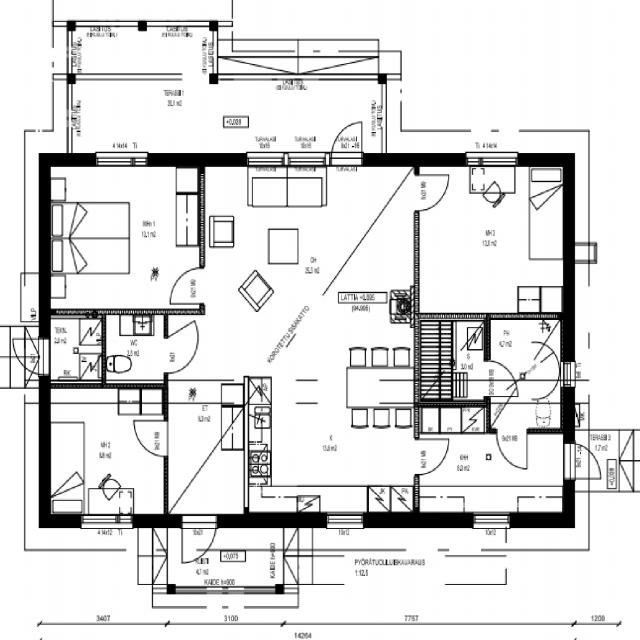door: (182, 514, 216, 570), (8, 340, 50, 376), (563, 444, 605, 479), (332, 118, 361, 166), (169, 268, 205, 304), (413, 440, 449, 475), (484, 361, 520, 396), (133, 422, 168, 457), (413, 176, 449, 210), (163, 339, 197, 374), (497, 429, 526, 469)
